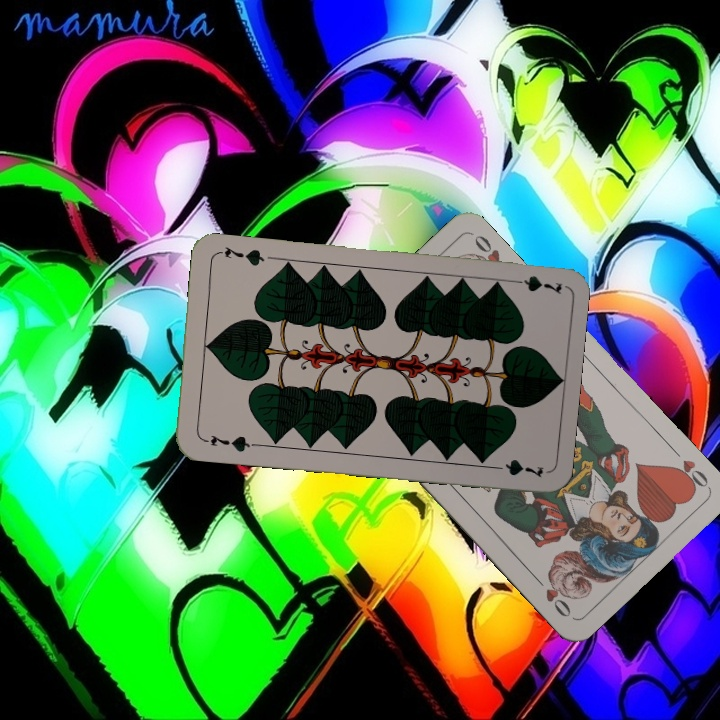G7: (505, 271, 564, 297), (198, 431, 257, 455)
HO: (667, 443, 712, 495)
